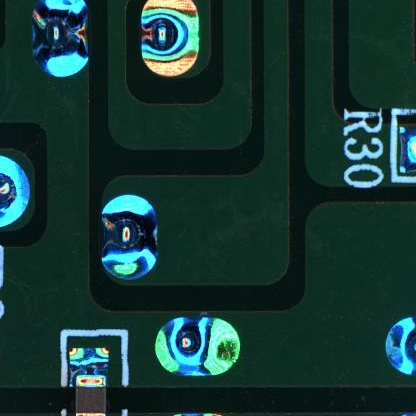spot: (97, 195, 160, 284), (152, 314, 240, 377), (30, 1, 91, 83), (139, 1, 201, 77), (1, 154, 32, 231), (384, 314, 416, 375)
